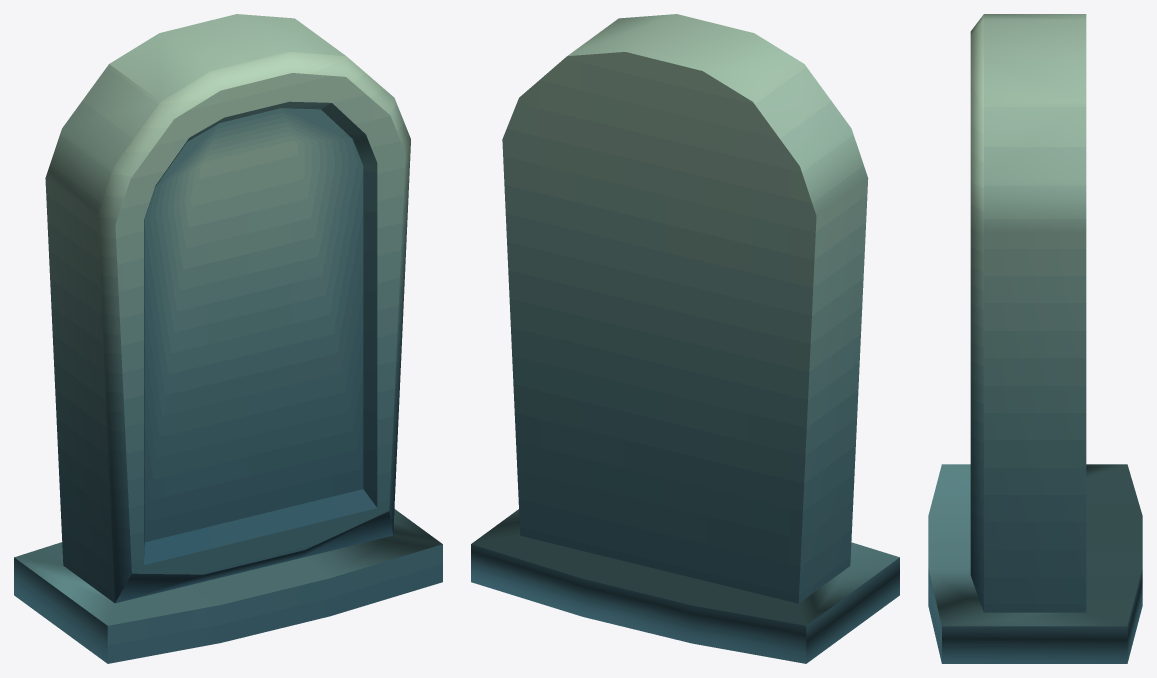
The model's file is Gravestone_Plain.fbx.
The picture shows the model from 3 angles, left to right: view 1: azimuth 30°, elevation 25°; view 2: azimuth 150°, elevation 25°; view 3: azimuth 270°, elevation 25°; orthographic projection.
Visible parts, largest first — view 1: pCube1; view 2: pCube1; view 3: pCube1.
Part boxes in pixels (left/top/right/bottom): pCube1: left=14, top=14, right=442, bottom=663; pCube1: left=471, top=14, right=899, bottom=663; pCube1: left=928, top=14, right=1142, bottom=663.
Bounding box in the file's own units: 2.91 × 4.54 × 1.62.
